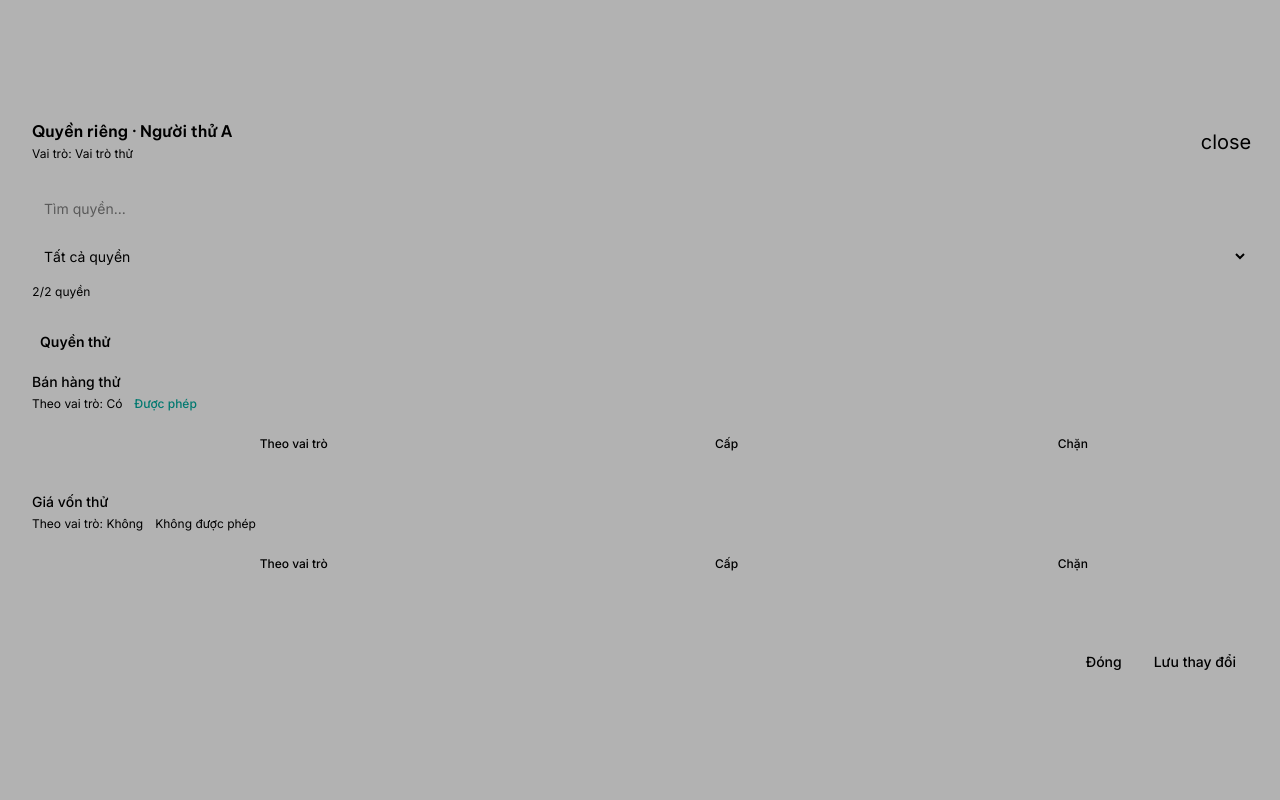
Scenario: per-user permission editor › keeps hidden drafts intact when changing the view filter
Expected: the element named "Bán hàng thử" is shown, [260,436,1088,451]
Click the 2nd radio button labelled "Cấp". click: (726, 564)
box: [715,556,738,571]
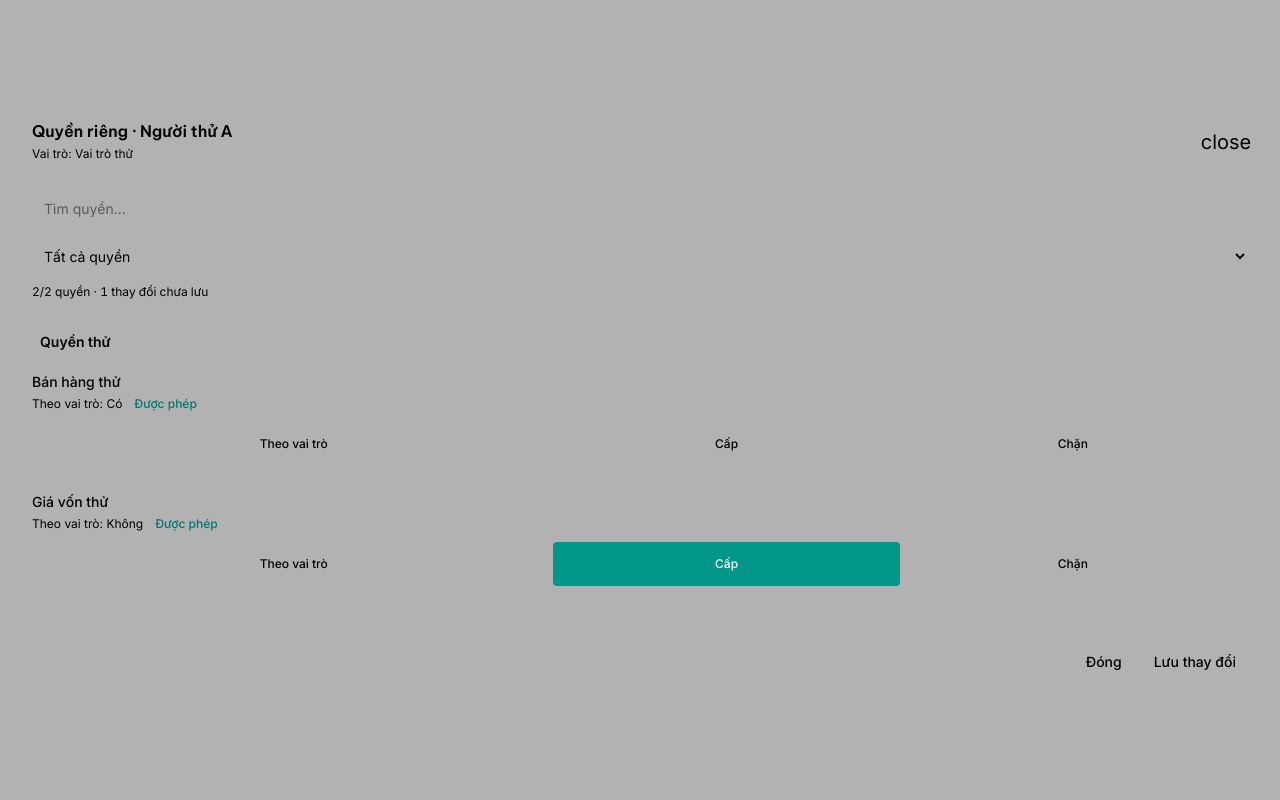
Select "Không được phép" in the dropdown named "Lọc quyền". click: (640, 256)
box: [32,236,1248,276]
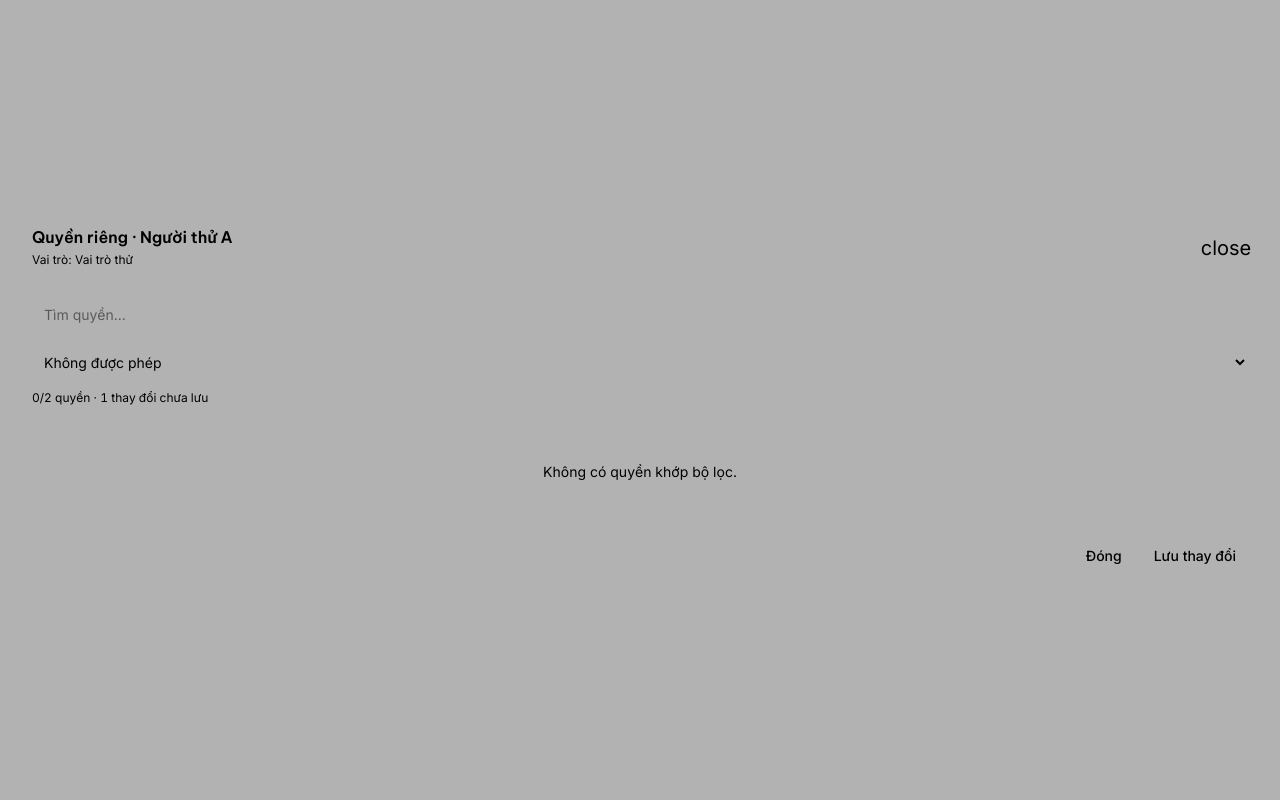
Now the text "Không có quyền khớp bộ lọc." is shown, box [543,463,737,480]
Select "Tất cả quyền" in the dropdown named "Lọc quyền". click: (640, 362)
box: [32,342,1248,382]
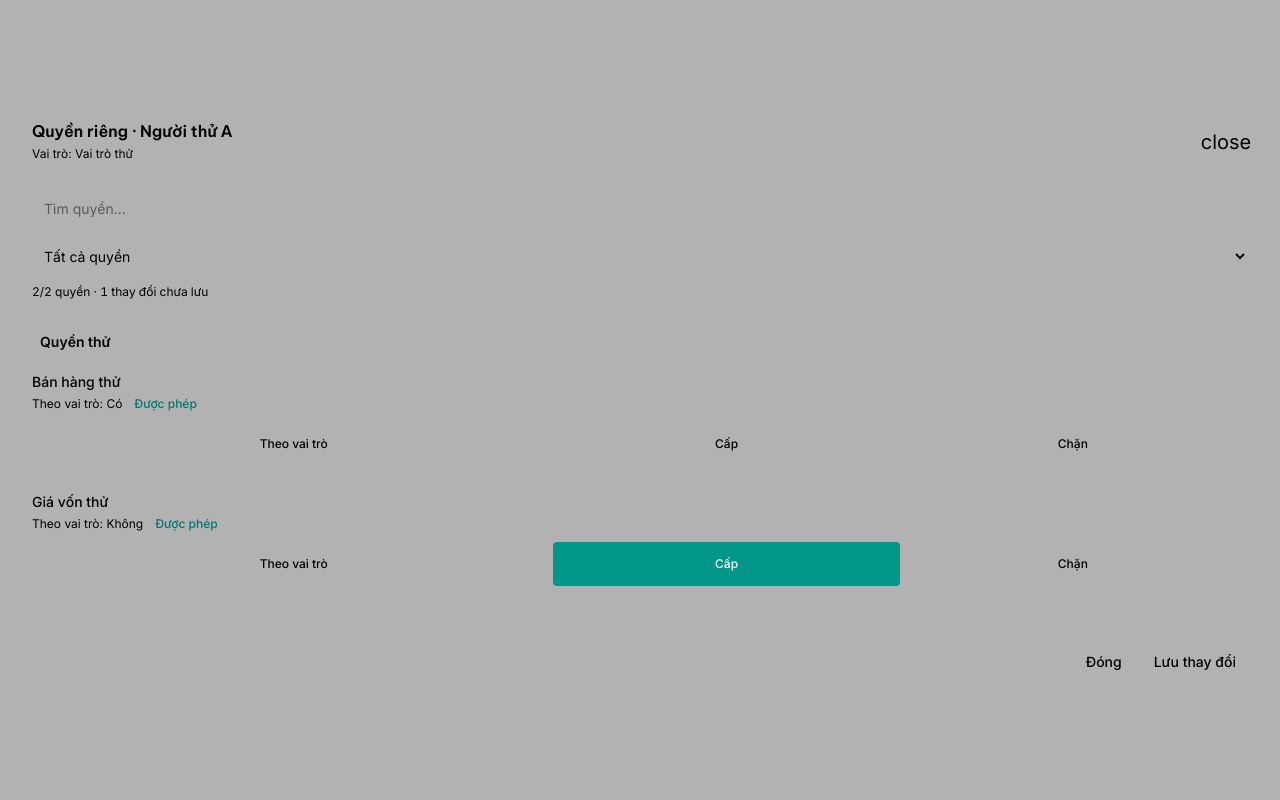
Now the 2nd radio button labelled "Cấp" is checked, box [553,542,900,586]
Now the text "2/2 quyền · 1 thay đổi chưa lưu" is shown, box [32,284,208,299]
